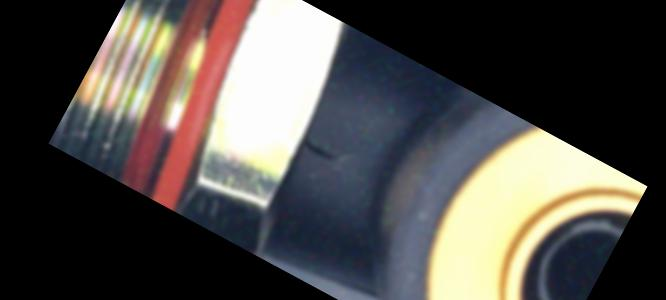craze: (298, 137, 340, 168)
joint line: (306, 124, 386, 175)
